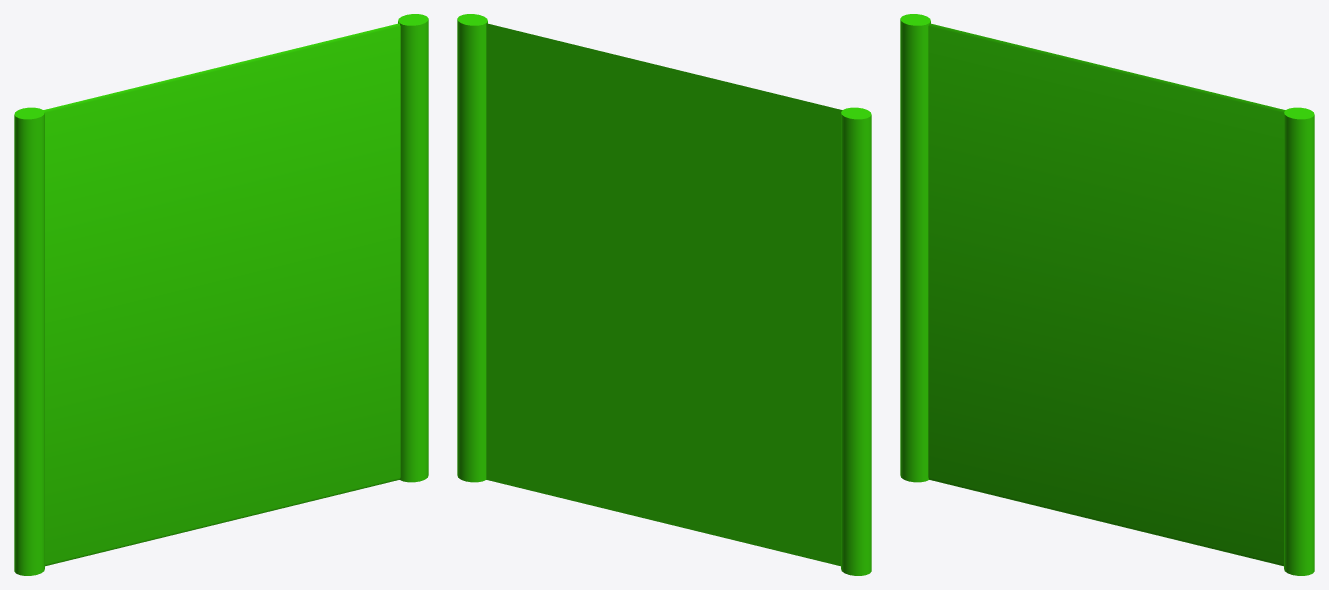
File: greengate.fbx
3 renders of one model, left to right at view 1: azimuth 30°, elevation 25°; view 2: azimuth 150°, elevation 25°; view 3: azimuth 330°, elevation 25°, orthographic.
Parts seen in each view (by area): view 1: Cylinder.001; view 2: Cylinder.001; view 3: Cylinder.001.
Boxes of the visible parts, x1,y1,x2,y2 form: Cylinder.001: [14, 14, 428, 575]; Cylinder.001: [457, 14, 871, 575]; Cylinder.001: [900, 14, 1314, 575].
Bounding box in the file's own units: 250 × 265 × 14.33.
